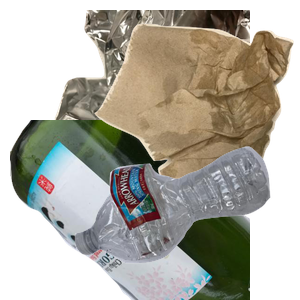glass: (10, 120, 250, 300)
metal: (52, 10, 292, 190)
plastic: (72, 144, 300, 300)
trash: (92, 21, 300, 201)
